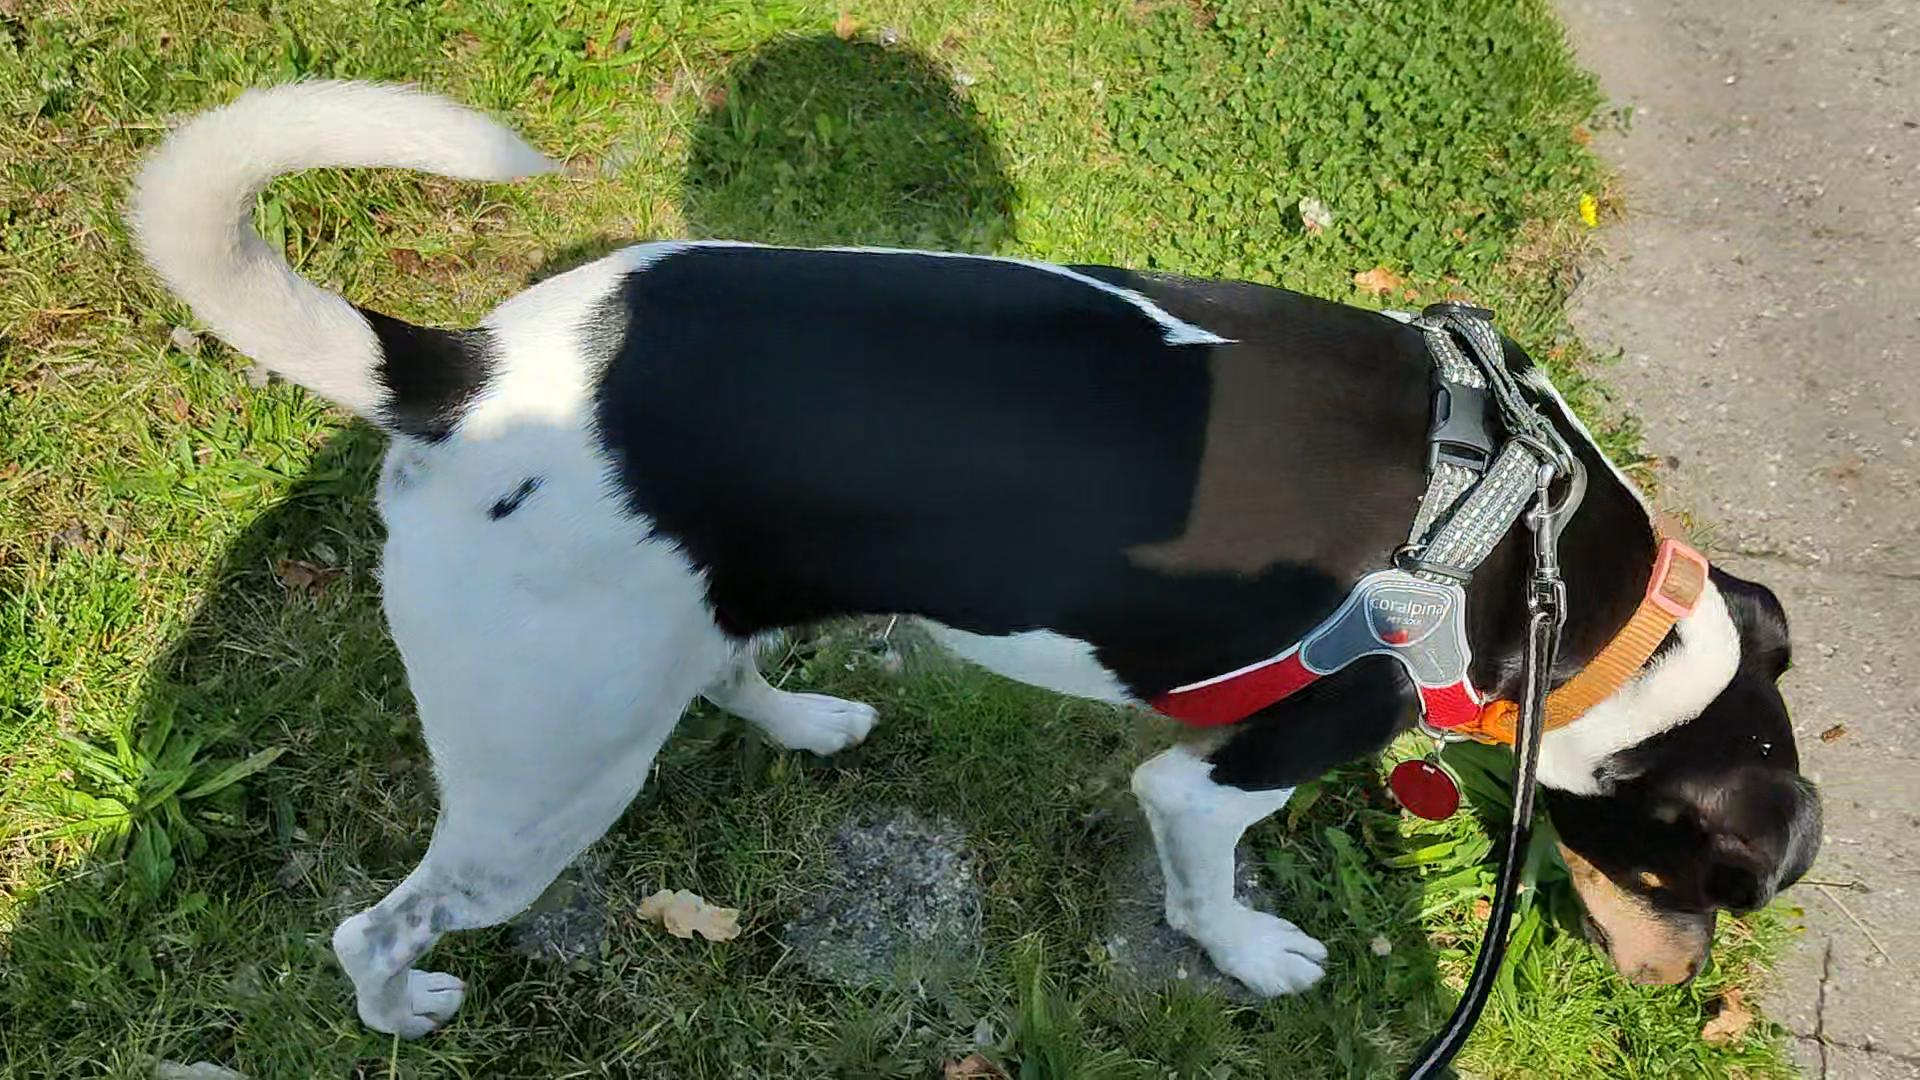Dog: (123, 70, 1829, 1046)
